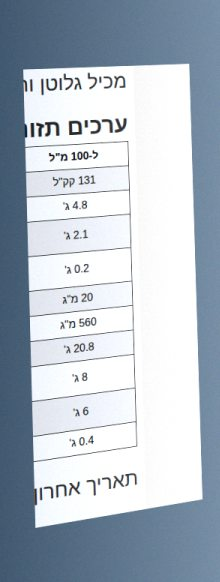carbs: (62, 339, 96, 357)
energy: (51, 172, 98, 190)
fat: (61, 198, 89, 214)
protein: (67, 432, 96, 451)
